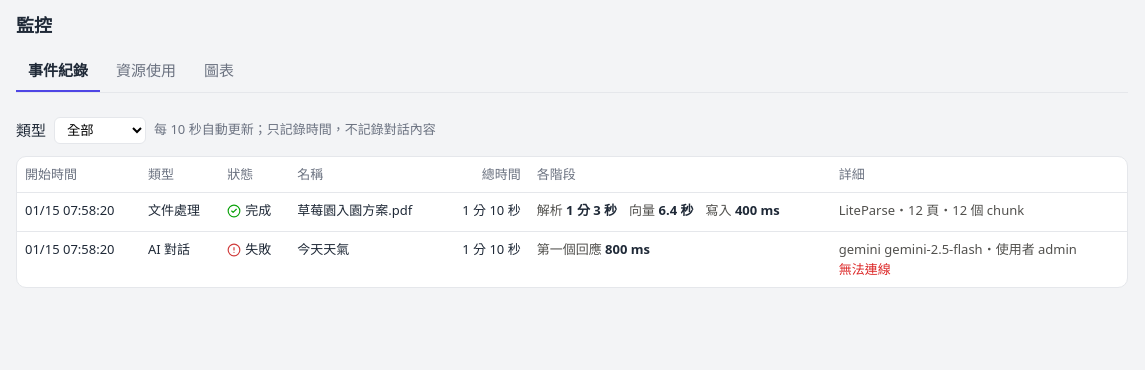
Scenario: MonitorPage › says when the monitor service is not sampling
Click the tab "資源使用" at (146, 71), box [104,51,188,92]
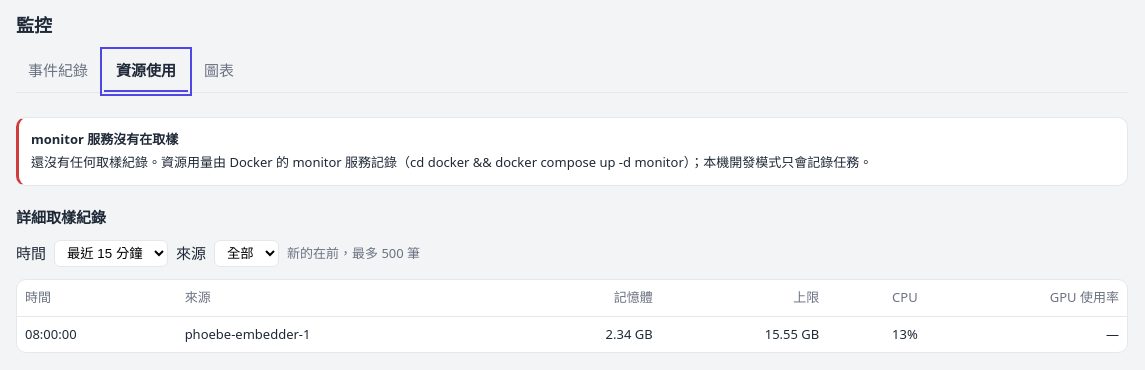
Result: the message shows "monitor 服務沒有在取樣" at [31,130,178,148]
